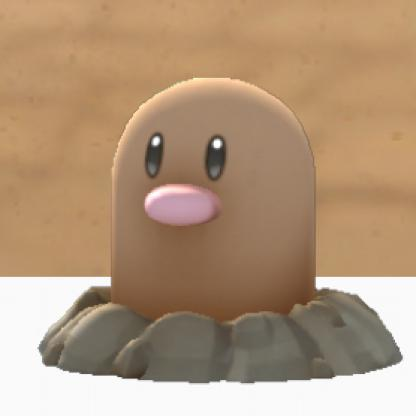Diglett: (23, 57, 400, 381)
